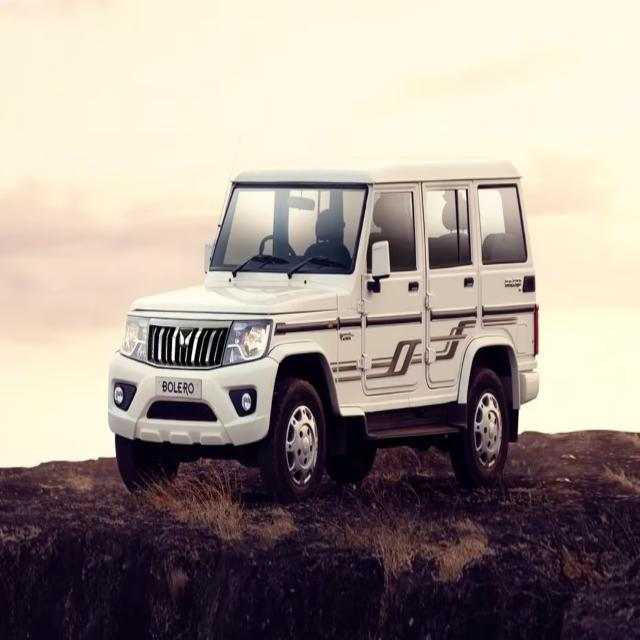light_vehicle: (112, 170, 534, 502)
